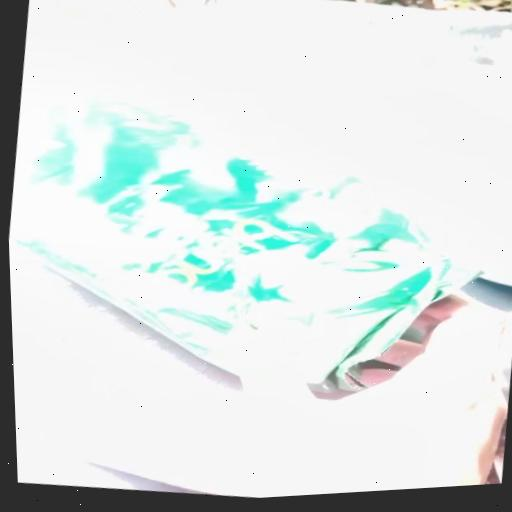cafe_xay: (13, 102, 477, 381)
